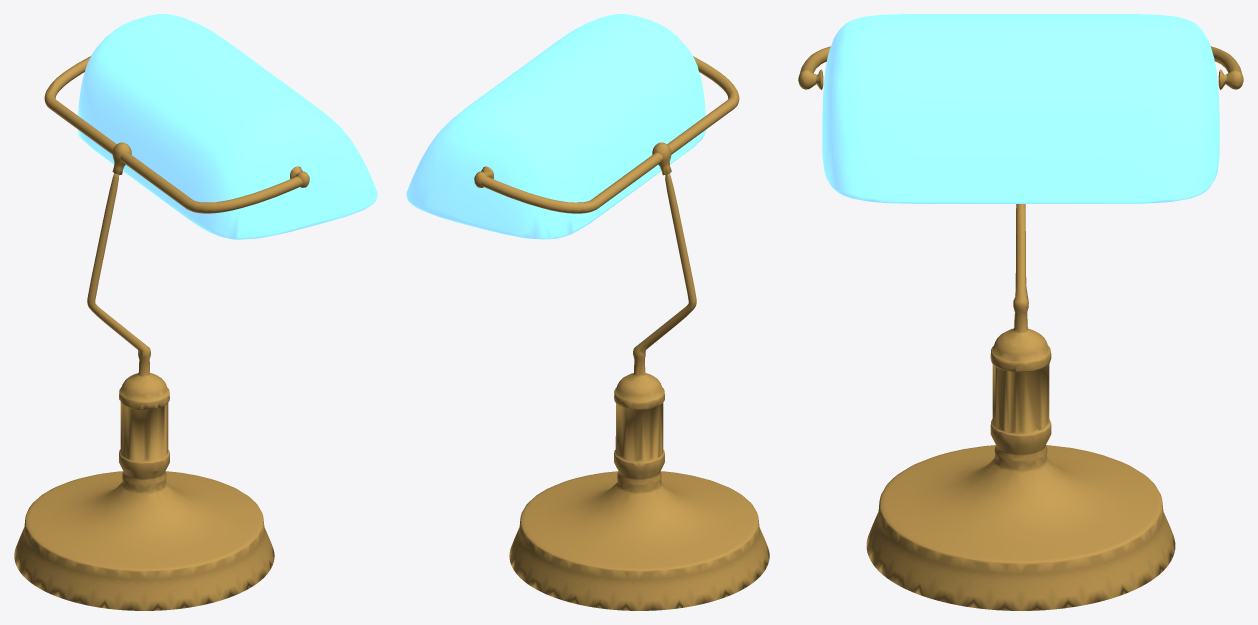
Rendered from Banker Lamp.dae.
3 views of the same model, side by side, from view 1: azimuth 30°, elevation 25°; view 2: azimuth 150°, elevation 25°; view 3: azimuth 270°, elevation 25° (orthographic). The views are drawn at different scales.
Visible parts, largest first — view 1: Kugel.1, Schirm.1; view 2: Kugel.1, Schirm.1; view 3: Schirm.1, Kugel.1.
Part boxes in pixels (left/top/right/bottom): Kugel.1: left=14, top=56, right=309, bottom=610; Schirm.1: left=77, top=14, right=377, bottom=239; Kugel.1: left=474, top=56, right=769, bottom=610; Schirm.1: left=406, top=14, right=705, bottom=239; Schirm.1: left=822, top=14, right=1219, bottom=203; Kugel.1: left=798, top=46, right=1243, bottom=610.
Bounding box in the file's own units: 24.8 × 39.78 × 28.47.
